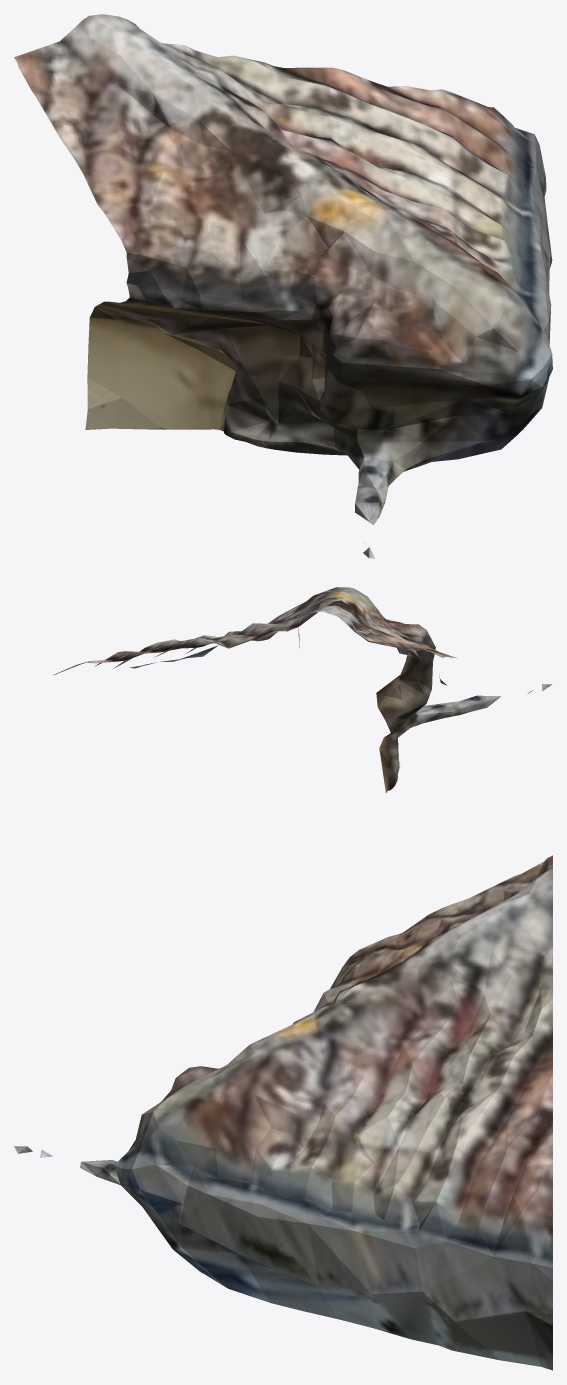
3 views of the same model, one above another, from view 1: azimuth 30°, elevation 25°; view 2: azimuth 150°, elevation 25°; view 3: azimuth 270°, elevation 25° (orthographic). The views are drawn at different scales.
Bounding box in the file's own units: 2.19 × 1.35 × 2.13.
Materials: 1 (1 with a texture image).
